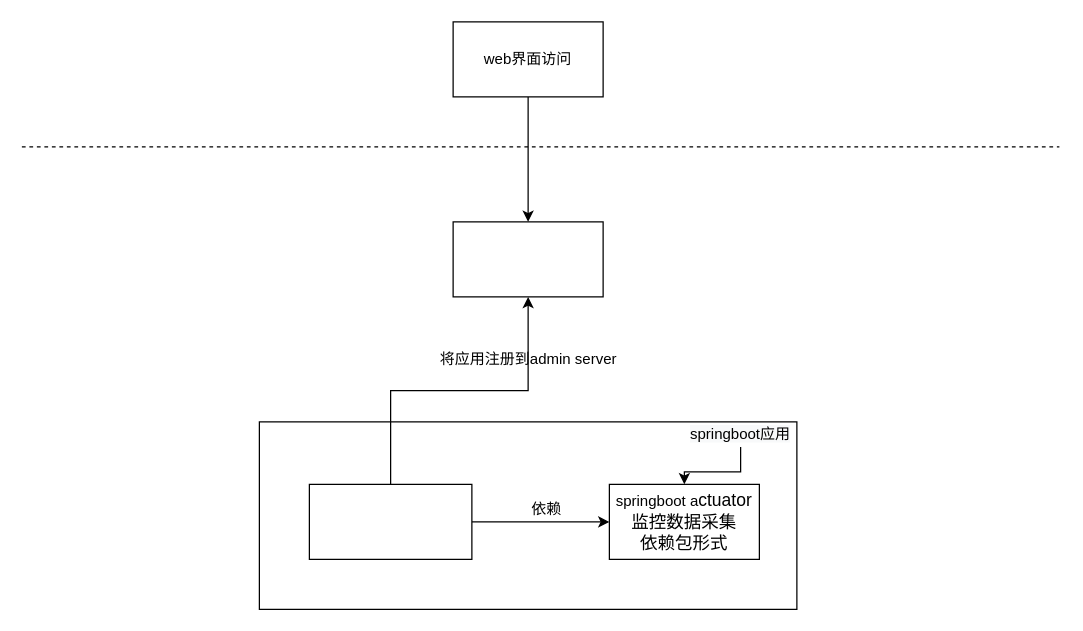
This 1083x631 diagram has some shape labels left out. Each missing label, with the centre of its shape:
"springboot client 依赖包形式" belongs at [390,521].
"springboot server" belongs at [527,259].
